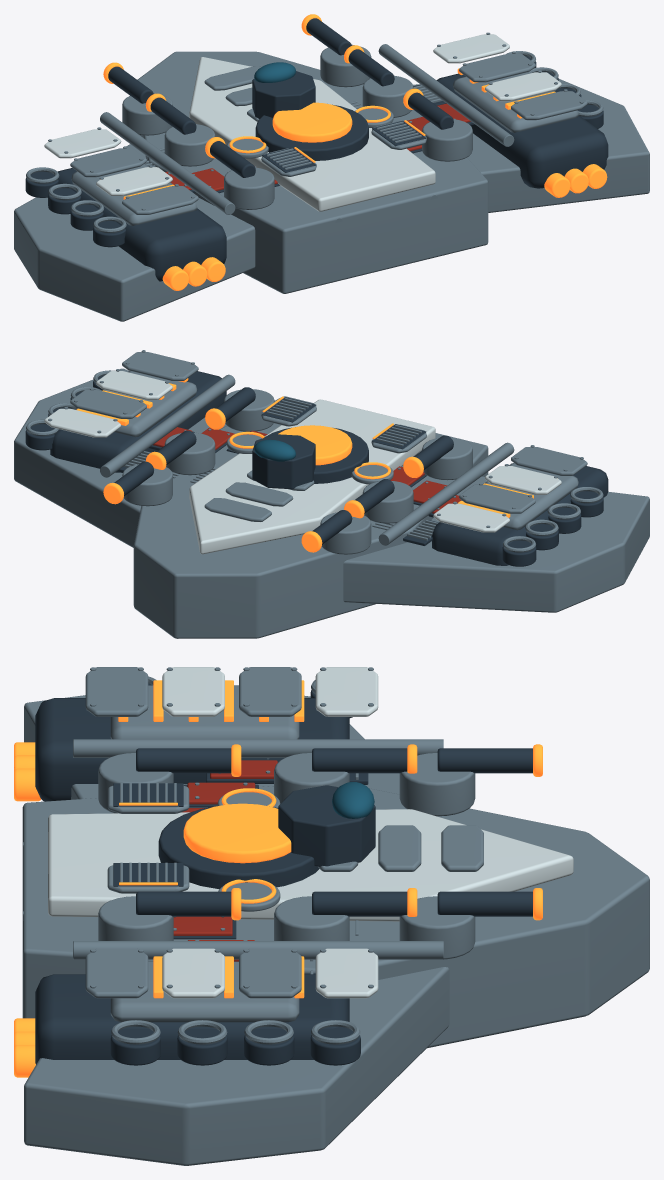
The model's file is Leviathan.fbx.
3 renders of one model, top to bottom at view 1: azimuth 30°, elevation 25°; view 2: azimuth 150°, elevation 25°; view 3: azimuth 270°, elevation 25°, orthographic. The views are drawn at different scales.
Parts seen in each view (by area): view 1: Command hull.002, Armored carrier wing.004, Dorsal armor.002, Armored carrier wing.005, Side reactor.005, Side reactor.004, Exposed core.002, Reactor housing.002, Armored coolant manifold.004, Armor panel.005, Armored coolant manifold.005, Command bridge.002 (+32 smaller); view 2: Command hull.002, Armored carrier wing.004, Dorsal armor.002, Armored carrier wing.005, Side reactor.005, Side reactor.004, Command bridge.002, Armored coolant manifold.004, Armored coolant manifold.005, Armor panel.005, Exposed core.002, Inset service armor.240 (+34 smaller); view 3: Command hull.002, Armored carrier wing.005, Dorsal armor.002, Side reactor.005, Side reactor.004, Command bridge.002, Exposed core.002, Armor panel.005, Armored coolant manifold.004, Armor panel.004, Armored coolant manifold.005, Reactor housing.002 (+41 smaller).
Boxes of the visible parts, <box> form: Command hull.002: <box>137,51,488,293</box>; Armored carrier wing.004: <box>14,144,255,321</box>; Dorsal armor.002: <box>189,57,435,211</box>; Armored carrier wing.005: <box>413,79,649,212</box>; Side reactor.005: <box>436,73,608,188</box>; Side reactor.004: <box>54,168,226,281</box>; Exposed core.002: <box>272,102,352,142</box>; Reactor housing.002: <box>255,104,368,160</box>; Armored coolant manifold.004: <box>100,112,235,214</box>; Armor panel.005: <box>453,72,578,132</box>; Armored coolant manifold.005: <box>378,44,514,146</box>; Command bridge.002: <box>252,71,315,118</box>; Command hull.002: <box>133,396,488,638</box>; Armored carrier wing.004: <box>343,476,649,612</box>; Dorsal armor.002: <box>189,399,435,554</box>; Armored carrier wing.005: <box>14,368,226,547</box>; Side reactor.005: <box>50,371,226,472</box>; Side reactor.004: <box>432,466,608,565</box>; Command bridge.002: <box>252,434,315,489</box>; Armored coolant manifold.004: <box>378,442,514,545</box>; Armored coolant manifold.005: <box>100,374,235,477</box>; Armor panel.005: <box>103,370,197,437</box>; Exposed core.002: <box>278,425,352,465</box>; Inset service armor.240: <box>433,503,509,532</box>; Command hull.002: <box>22,786,649,1048</box>; Armored carrier wing.005: <box>24,967,449,1165</box>; Dorsal armor.002: <box>48,809,573,921</box>; Side reactor.005: <box>35,974,349,1064</box>; Side reactor.004: <box>35,698,349,801</box>; Command bridge.002: <box>278,785,375,866</box>; Exposed core.002: <box>183,803,291,863</box>; Armor panel.005: <box>110,961,299,1022</box>; Armored coolant manifold.004: <box>73,739,443,757</box>; Armor panel.004: <box>110,685,299,739</box>; Armored coolant manifold.005: <box>73,941,443,959</box>; Reactor housing.002: <box>158,807,319,889</box>.
Size of the model in its own units: 799 by 162 by 506.
